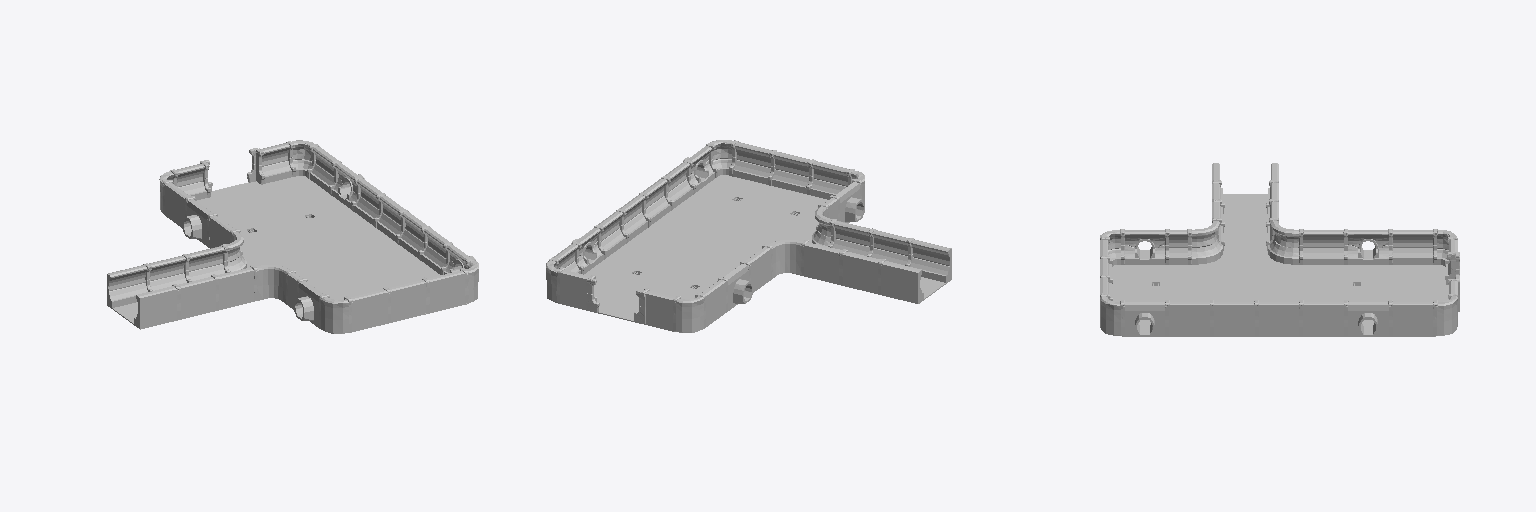
File: DungeonRoom_18.obj
3 views of the same model, side by side, from view 1: azimuth 30°, elevation 25°; view 2: azimuth 150°, elevation 25°; view 3: azimuth 270°, elevation 25° (orthographic).
Parts seen in each view (by area): view 1: DungeonRoom_18; view 2: DungeonRoom_18; view 3: DungeonRoom_18.
Boxes of the visible parts, x1,y1,x2,y2 form: DungeonRoom_18: [107, 140, 478, 333]; DungeonRoom_18: [546, 140, 951, 332]; DungeonRoom_18: [1100, 163, 1459, 336].
Size of the model in its own units: 62 by 8.22 by 64.54.